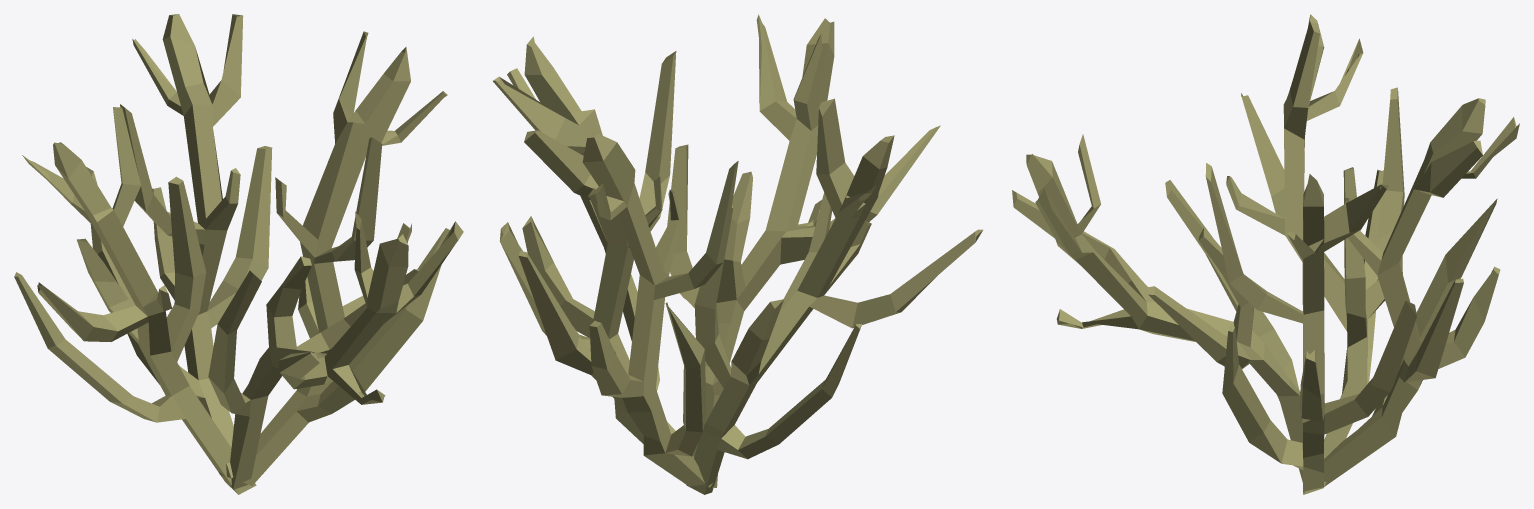
The model's file is desert_tree_6.fbx.
3 views of the same model, side by side, from view 1: azimuth 30°, elevation 25°; view 2: azimuth 150°, elevation 25°; view 3: azimuth 270°, elevation 25° (orthographic). The views are drawn at different scales.
Parts seen in each view (by area): view 1: desert_tree_6_LOD0; view 2: desert_tree_6_LOD0; view 3: desert_tree_6_LOD0.
Part boxes in pixels (bbox=[...]): desert_tree_6_LOD0: bbox=[14, 14, 463, 494]; desert_tree_6_LOD0: bbox=[493, 14, 982, 494]; desert_tree_6_LOD0: bbox=[1012, 14, 1519, 494].
Size of what is drawn, in the model's own units: 340 by 309 by 346.
